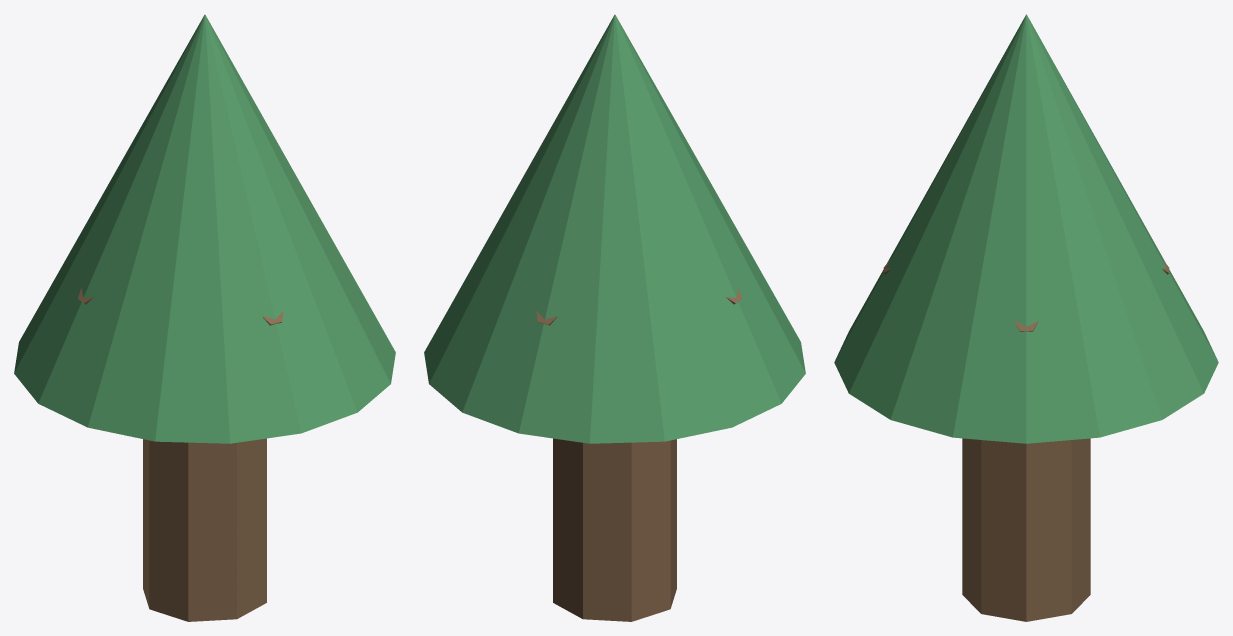
File: pine_sapling.glb
The picture shows the model from 3 angles, left to right: view 1: azimuth 30°, elevation 25°; view 2: azimuth 150°, elevation 25°; view 3: azimuth 270°, elevation 25°; orthographic projection.
Visible parts, largest first — view 1: PineSapling_needles, PineSapling_trunk.001; view 2: PineSapling_needles, PineSapling_trunk.001; view 3: PineSapling_needles, PineSapling_trunk.001.
Part boxes in pixels (x1,y1,x2,y2): PineSapling_needles: [14, 14, 395, 443]; PineSapling_trunk.001: [143, 438, 266, 621]; PineSapling_needles: [424, 14, 805, 443]; PineSapling_trunk.001: [553, 438, 676, 621]; PineSapling_needles: [834, 14, 1218, 443]; PineSapling_trunk.001: [962, 438, 1090, 621].
Size of the model in its own units: 0.3 by 0.5 by 0.3.
